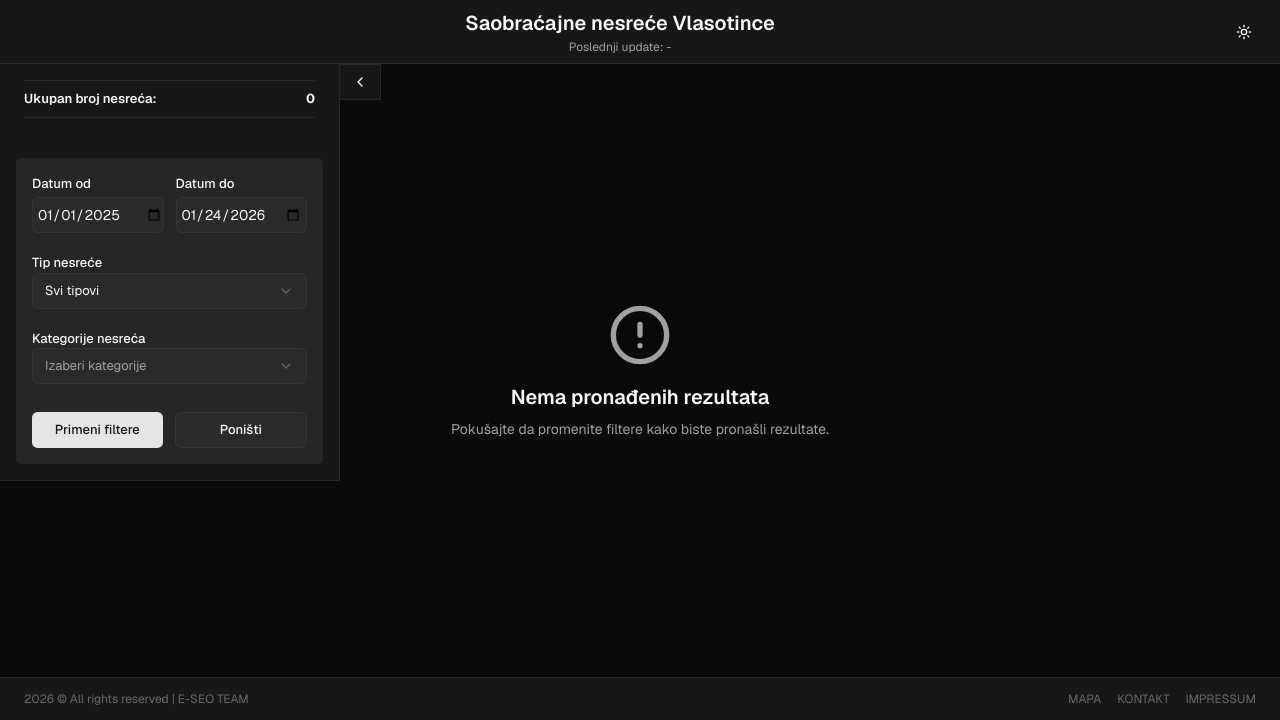
Test: Homepage Filters › should allow entering start date
The width and height of the screenshot is (1280, 720).
In the date field with test id "date-input-startDate": (98, 215) 32,197 -> 164,233, type "2025-01-15"
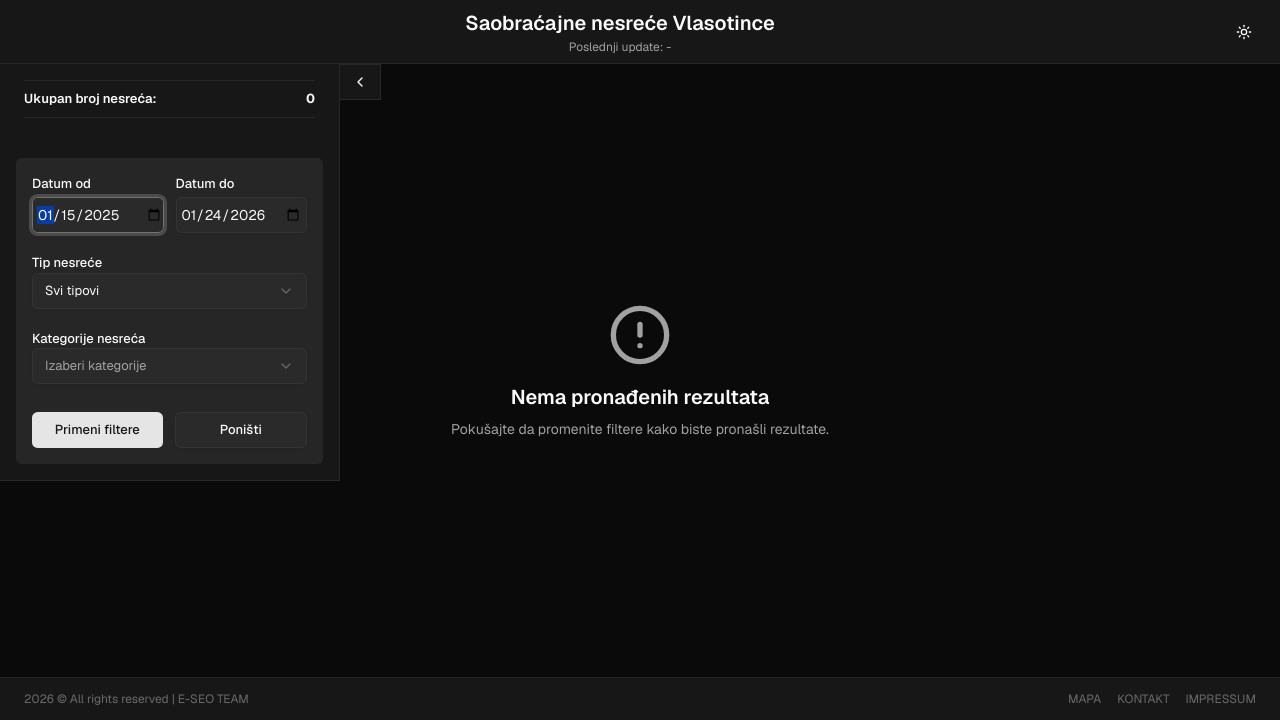
Check: the date field with test id "date-input-startDate" holds "2025-01-15", box 32,197 -> 164,233
